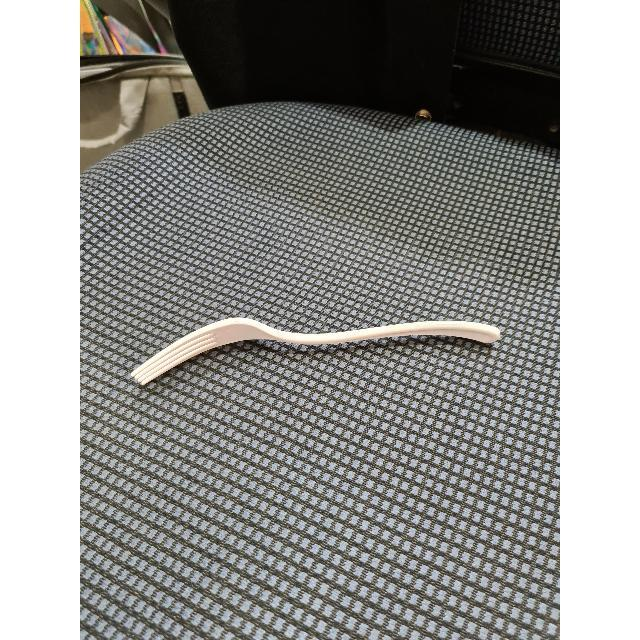Plastico descartable: (131, 318, 500, 385)
